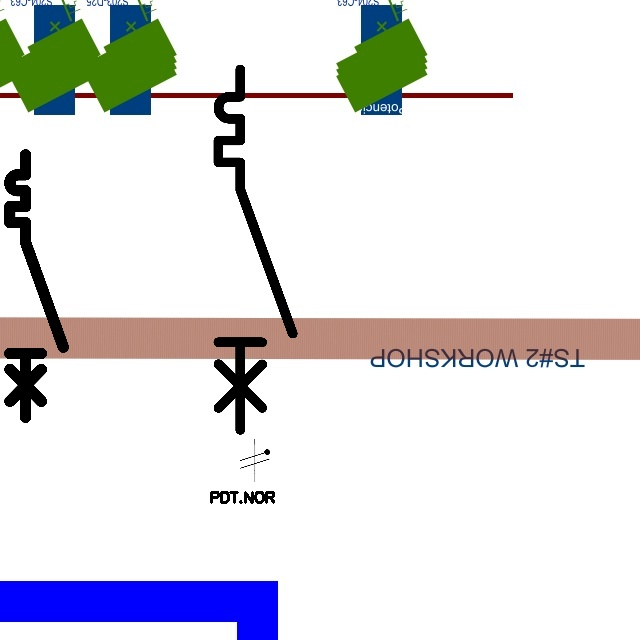interruptor_termomagnetico: (209, 60, 302, 439), (3, 148, 70, 424)
